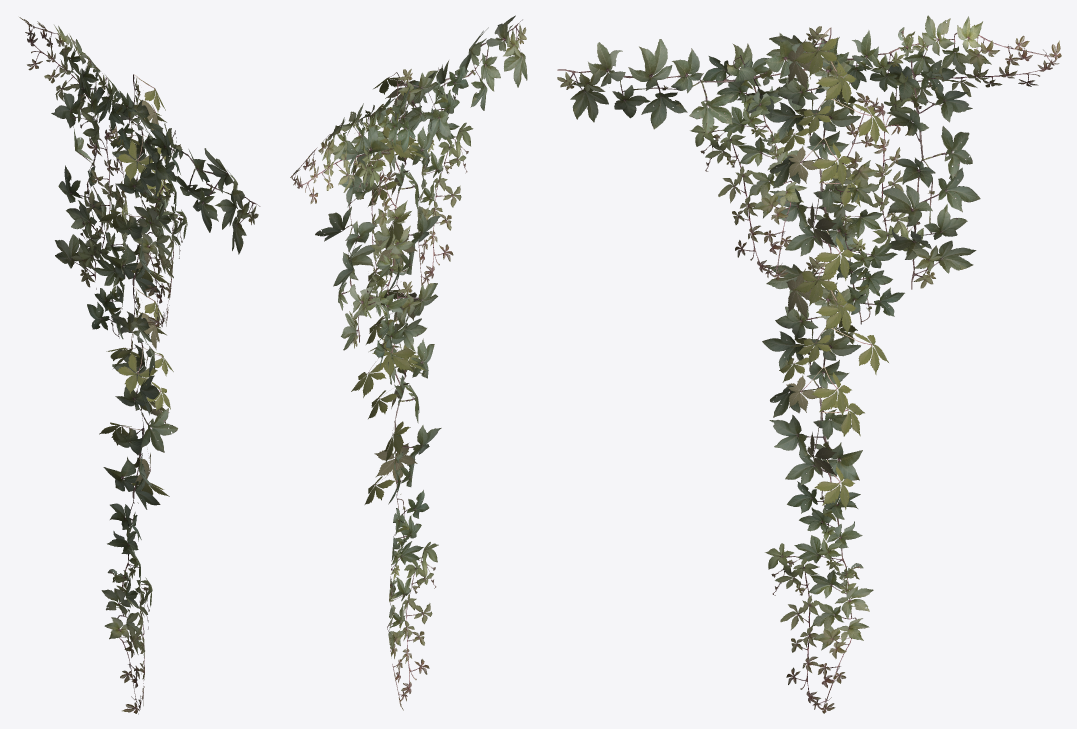
The model's file is SM_Plant_Ivy_04.fbx.
3 renders of one model, left to right at view 1: azimuth 30°, elevation 25°; view 2: azimuth 150°, elevation 25°; view 3: azimuth 270°, elevation 25°, orthographic. The views are drawn at different scales.
Visible parts, largest first — view 1: SM_Plant_Ivy_04; view 2: SM_Plant_Ivy_04; view 3: SM_Plant_Ivy_04.
Part boxes in pixels (left/top/right/bottom): SM_Plant_Ivy_04: left=19, top=17, right=260, bottom=714; SM_Plant_Ivy_04: left=290, top=15, right=527, bottom=710; SM_Plant_Ivy_04: left=557, top=15, right=1061, bottom=713.
Size of the model in its own units: 27.4 by 200 by 303.
Materials: 1 (1 with a texture image).
